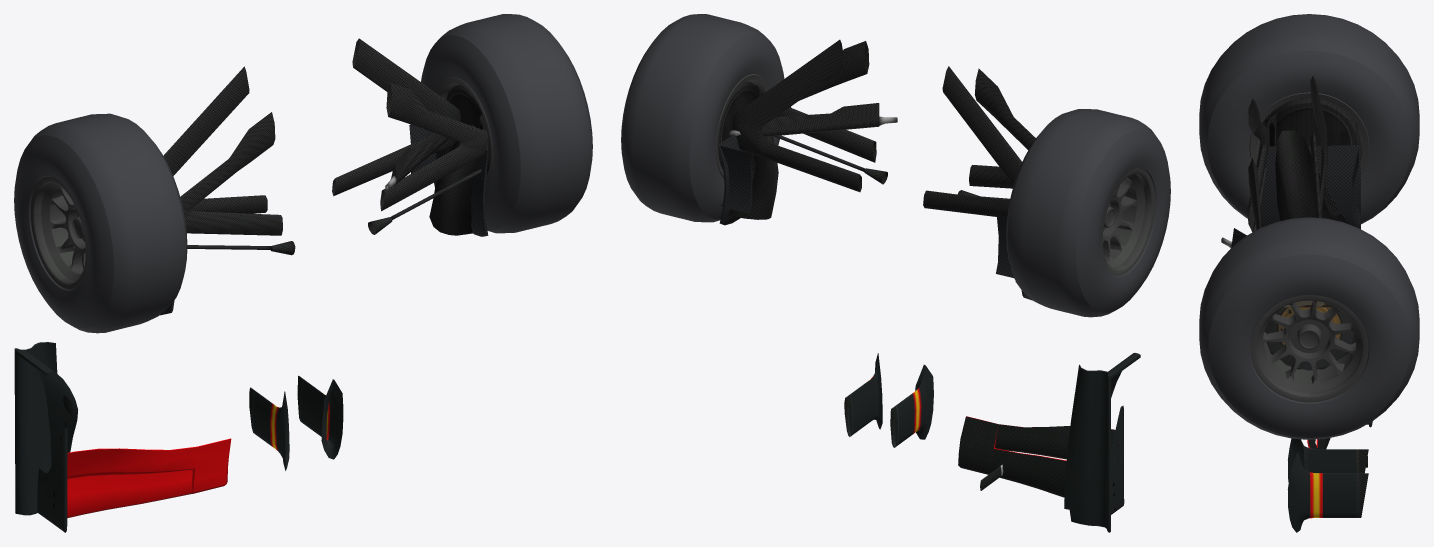
File: fwheel2.obj
The picture shows the model from 3 angles, left to right: view 1: azimuth 30°, elevation 25°; view 2: azimuth 150°, elevation 25°; view 3: azimuth 270°, elevation 25°; orthographic projection. The views are drawn at different scales.
Parts seen in each view (by area): view 1: object__46, object__48, object__45, object__33, object__32, object__47, object__27, object__18, object__12, object__11, object__8, object__7 (+5 smaller); view 2: object__46, object__48, object__45, object__33, object__47, object__32, object__8, object__27, object__18, object__7, object__42, object__12 (+5 smaller); view 3: object__47, object__45, object__48, object__26, object__46, object__19, object__65, object__64, object__37, object__18, object__11, object__7 (+3 smaller).
Part boxes in pixels (x1,y1,x2,y2): object__46: [30, 113, 185, 333]; object__48: [437, 14, 591, 233]; object__45: [14, 135, 187, 328]; object__33: [14, 342, 77, 532]; object__32: [67, 438, 231, 517]; object__47: [421, 35, 592, 230]; object__27: [409, 85, 490, 236]; object__18: [30, 176, 87, 289]; object__12: [380, 83, 488, 211]; object__11: [180, 112, 282, 235]; object__8: [332, 38, 460, 196]; object__7: [163, 66, 267, 213]; object__46: [1007, 109, 1155, 317]; object__48: [622, 14, 769, 222]; object__45: [1006, 129, 1170, 312]; object__33: [1064, 353, 1140, 532]; object__47: [621, 34, 784, 219]; object__32: [958, 416, 1115, 497]; object__8: [732, 39, 861, 192]; object__27: [718, 81, 778, 225]; object__18: [1101, 168, 1155, 275]; object__7: [923, 66, 1022, 216]; object__42: [729, 103, 897, 136]; object__12: [777, 41, 876, 162]; object__47: [1208, 254, 1410, 437]; object__45: [1207, 50, 1411, 222]; object__48: [1199, 217, 1419, 439]; object__26: [1256, 98, 1360, 228]; object__46: [1199, 14, 1419, 224]; object__19: [1250, 295, 1368, 402]; object__65: [1287, 451, 1368, 532]; object__64: [1288, 438, 1368, 481]; object__37: [1264, 307, 1354, 370]; object__18: [1249, 92, 1369, 173]; object__11: [1247, 98, 1268, 231]; object__7: [1310, 76, 1327, 217].
Bounding box in the file's own units: 1.76 × 1.4 × 0.6512.
